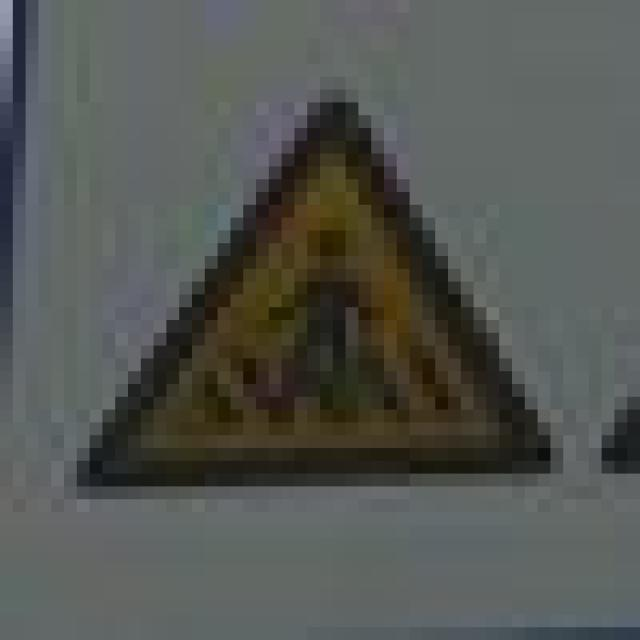pass_either_side: (51, 76, 563, 474)
